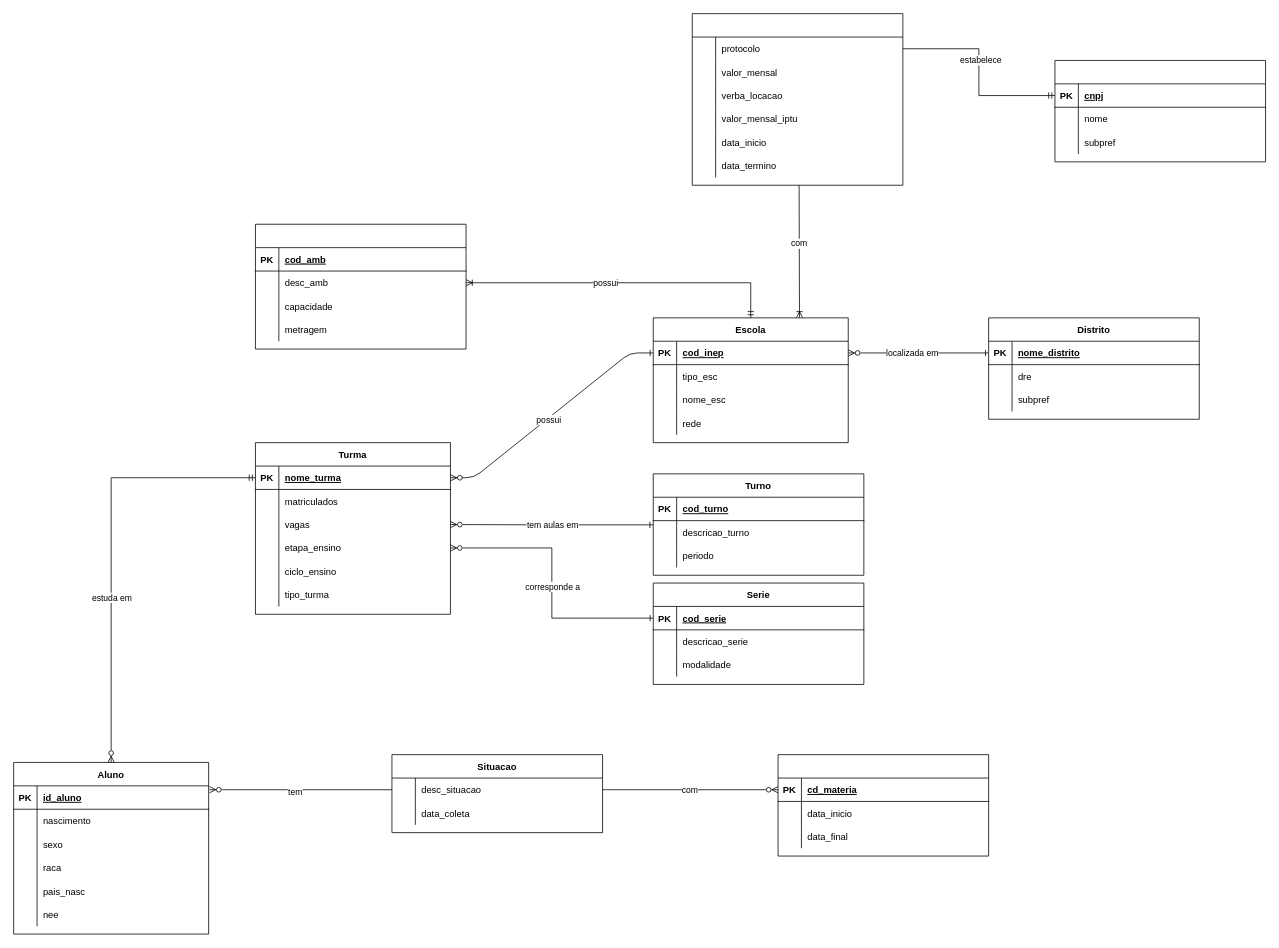
Some shapes in this 1279 by 948 pixel diagram are drawn without their labels. Each missing label, with the box of its shape:
Ambiente: (255, 223, 466, 349)
Matéria: (777, 754, 989, 856)
OSC: (1054, 60, 1266, 162)
Parceria: (691, 13, 903, 185)
